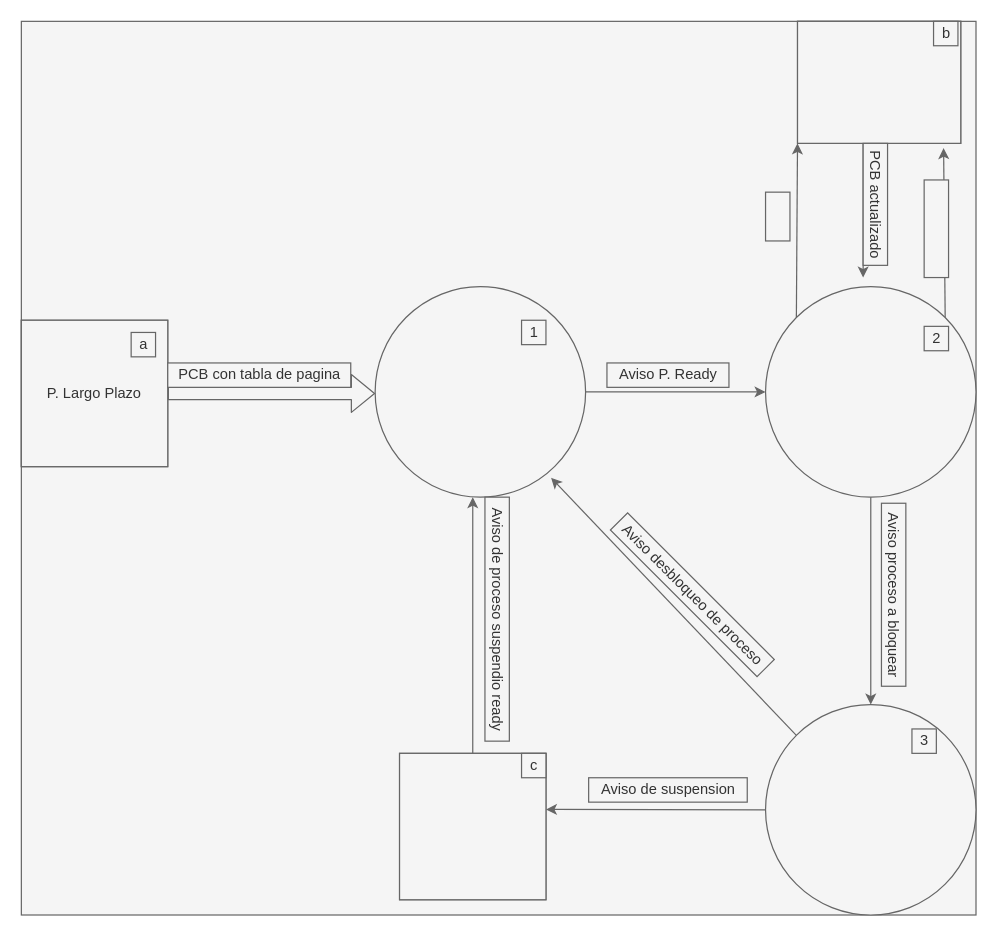
The diagram is 998 pixels wide and 937 high, and some of its shapes have lost their labels. The box of each missing label's shape, as (x1, y1, x2, y2) in pixels:
Agragar a estadp ready: (374, 285, 586, 497)
Comunicacion CPU: (764, 285, 976, 497)
CPU: (796, 20, 961, 143)
Gestionar bloqueos: (764, 703, 976, 915)
interrupcion: (923, 179, 949, 278)
P. Mediano Plazo: (398, 752, 546, 900)
PCB: (764, 191, 790, 241)
